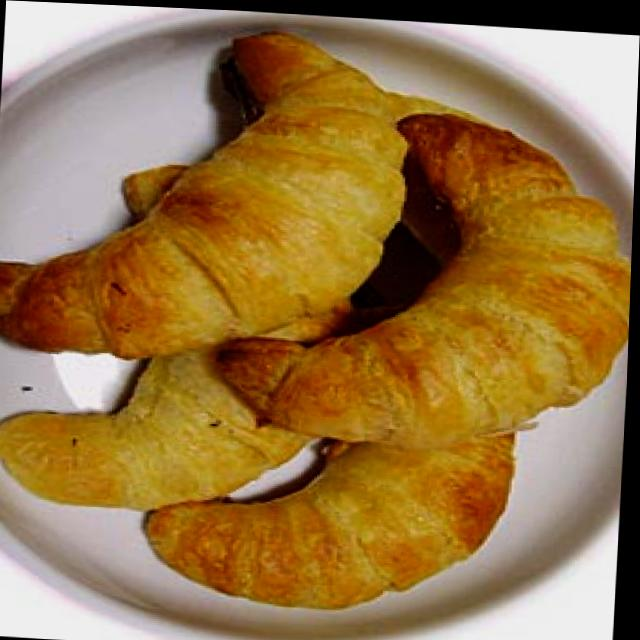面包点心: (0, 10, 640, 631)
